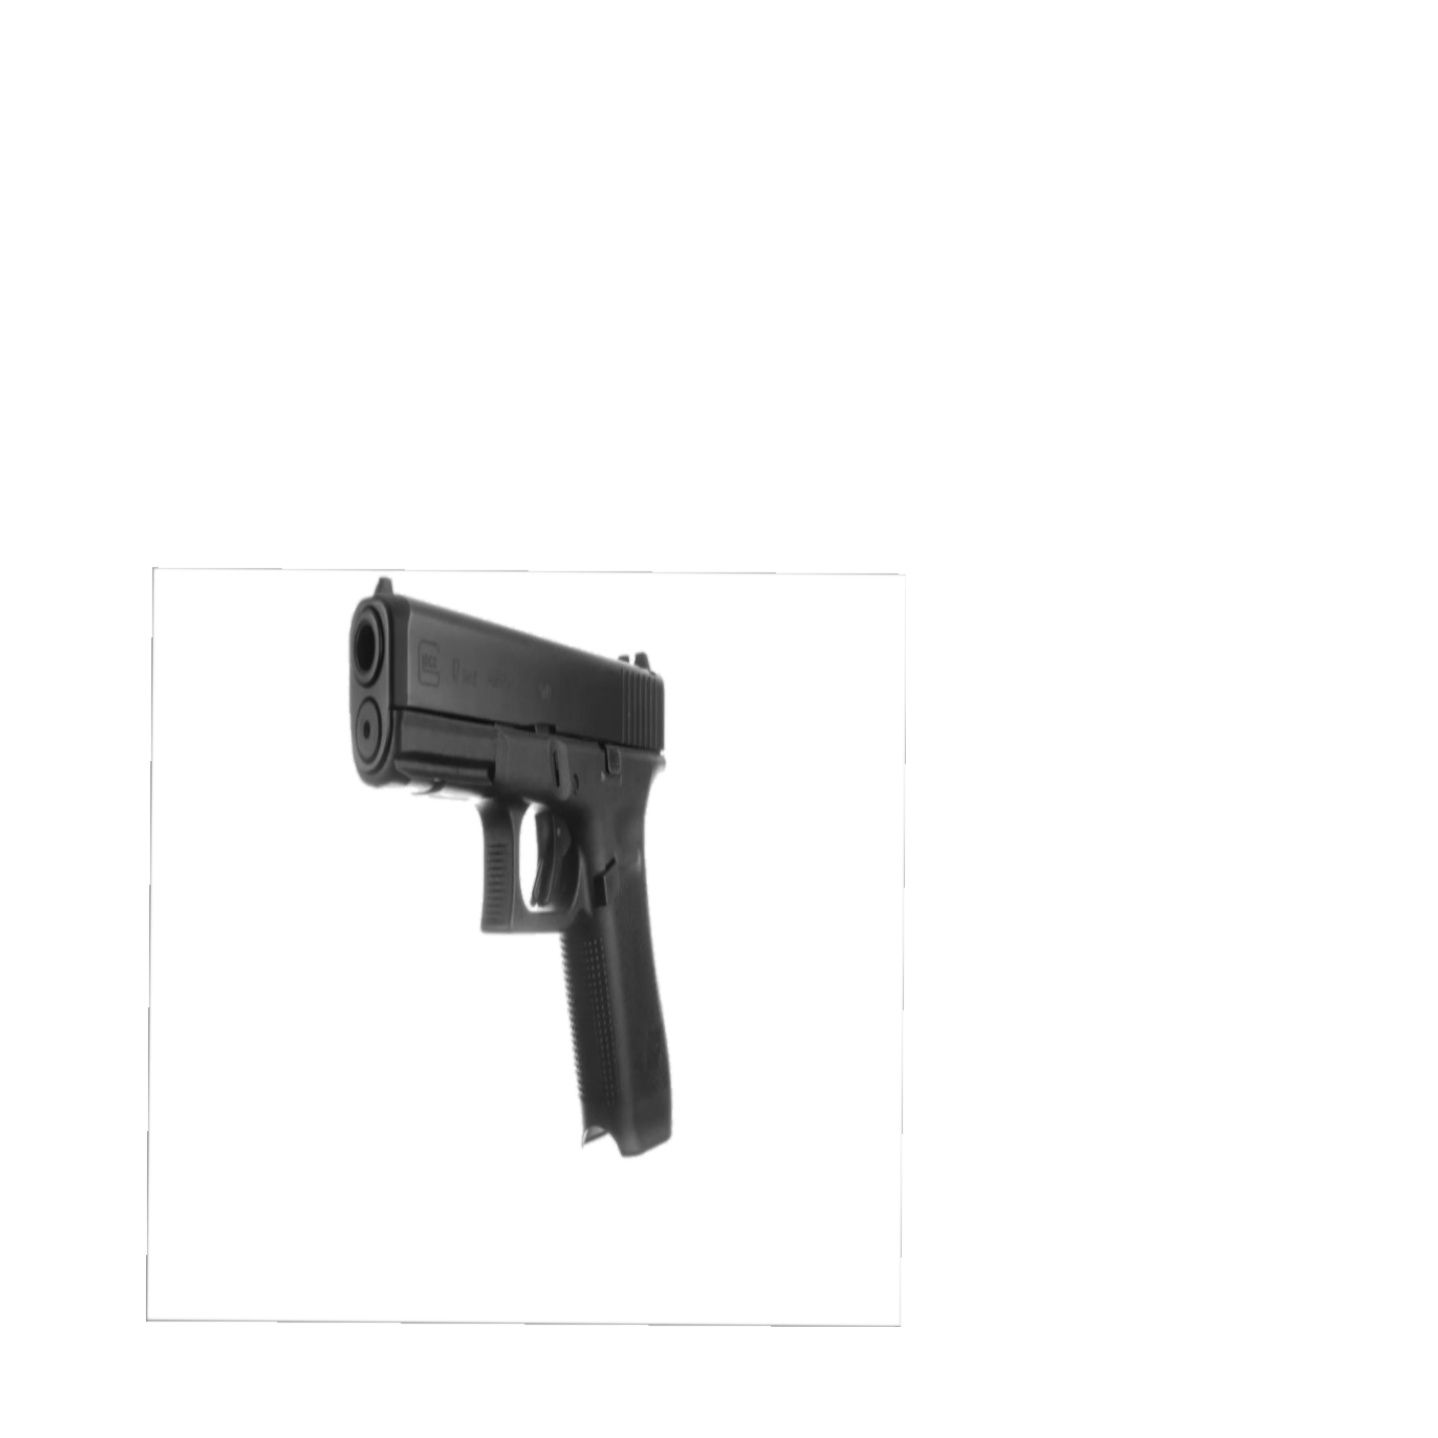gun: (349, 572, 678, 1158)
